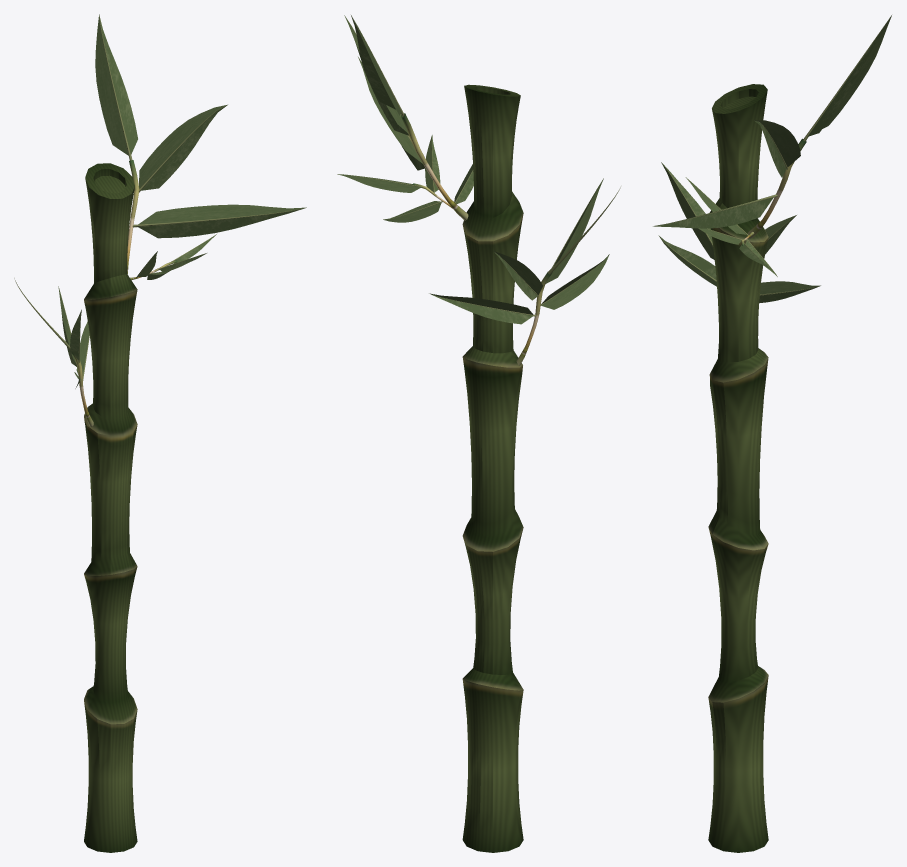
File: Bambus 2.fbx
3 renders of one model, left to right at view 1: azimuth 30°, elevation 25°; view 2: azimuth 150°, elevation 25°; view 3: azimuth 270°, elevation 25°, orthographic. The views are drawn at different scales.
Parts seen in each view (by area): view 1: Cylinder.027, BambusSmallBranch3.004; view 2: Cylinder.027, BambusSmallBranch3.004; view 3: Cylinder.027, BambusSmallBranch3.004.
Boxes of the visible parts, x1=… form: Cylinder.027: x1=84, y1=163, x2=137, y2=852; BambusSmallBranch3.004: x1=14, y1=14, x2=306, y2=426; Cylinder.027: x1=462, y1=84, x2=523, y2=852; BambusSmallBranch3.004: x1=337, y1=15, x2=620, y2=365; Cylinder.027: x1=708, y1=84, x2=768, y2=852; BambusSmallBranch3.004: x1=653, y1=15, x2=891, y2=303.
Size of the model in its own units: 0.8725 by 2.42 by 0.6156.
Materials: 5 (4 with a texture image).
